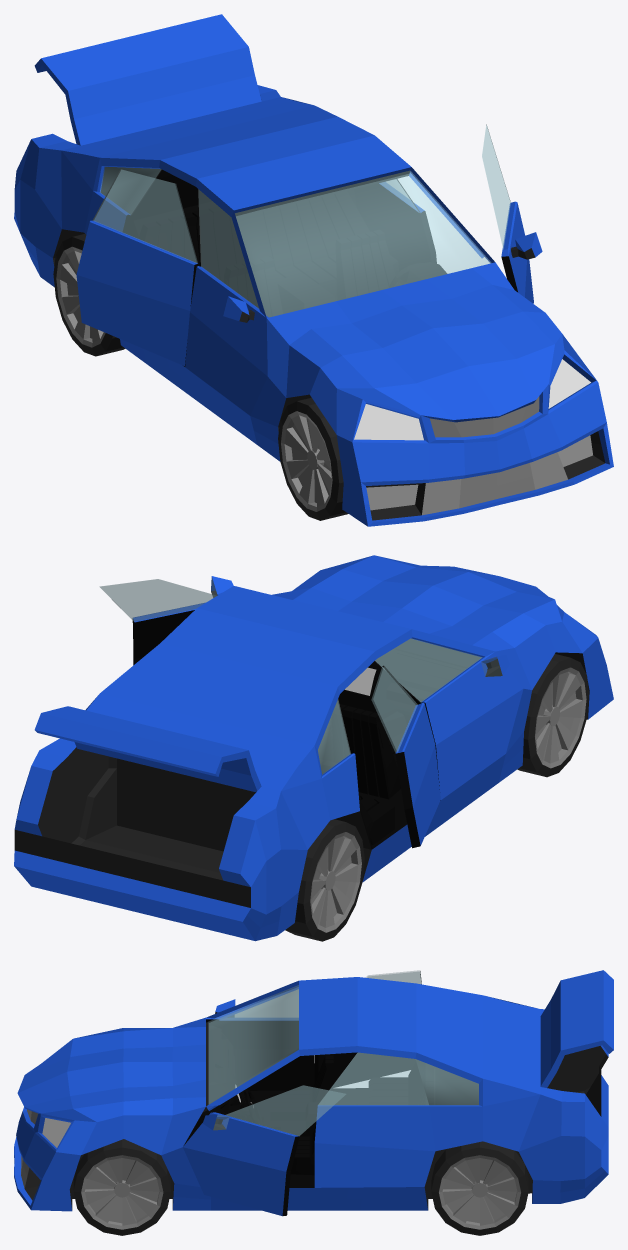
The model's file is Машина.fbx.
The picture shows the model from 3 angles, top to bottom: view 1: azimuth 30°, elevation 25°; view 2: azimuth 150°, elevation 25°; view 3: azimuth 270°, elevation 25°; orthographic projection. The views are drawn at different scales.
Visible parts, largest first — view 1: windshield.002, Seats, Seats.001, Cube.003; view 2: windshield.002, interior, Seats.001, Seats; view 3: windshield.002, Seats.001, Seats, interior, Cube.003, interior.001.
Boxes of the visible parts, x1=… form: windshield.002: x1=14, y1=14, x2=613, y2=526; Seats: x1=139, y1=191, x2=398, y2=300; Seats.001: x1=224, y1=230, x2=398, y2=317; Cube.003: x1=277, y1=274, x2=335, y2=313; windshield.002: x1=14, y1=555, x2=613, y2=941; interior: x1=328, y1=639, x2=481, y2=739; Seats.001: x1=332, y1=703, x2=400, y2=799; Seats: x1=319, y1=759, x2=394, y2=844; windshield.002: x1=14, y1=970, x2=613, y2=1235; Seats.001: x1=270, y1=1054, x2=334, y2=1175; Seats: x1=369, y1=1060, x2=433, y2=1104; interior: x1=183, y1=1026, x2=241, y2=1145; Cube.003: x1=263, y1=1102, x2=357, y2=1136; interior.001: x1=229, y1=1088, x2=262, y2=1125.
Size of the model in its own units: 237 by 140 by 418.
